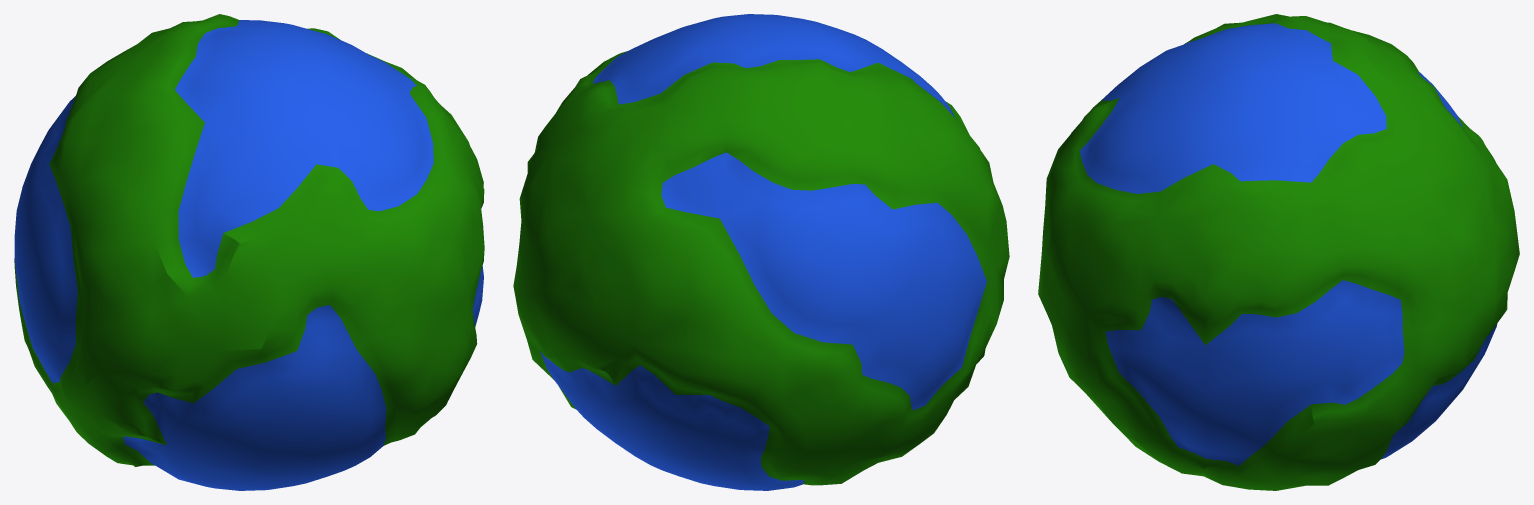
The picture shows the model from 3 angles, left to right: view 1: azimuth 30°, elevation 25°; view 2: azimuth 150°, elevation 25°; view 3: azimuth 270°, elevation 25°; orthographic projection. The views are drawn at different scales.
Visible parts, largest first — view 1: Icosphere; view 2: Icosphere; view 3: Icosphere.
Part boxes in pixels (bbox=[...]): Icosphere: bbox=[14, 14, 484, 490]; Icosphere: bbox=[513, 14, 1009, 490]; Icosphere: bbox=[1038, 14, 1519, 490].
Size of the model in its own units: 1.82 by 1.83 by 1.89.
